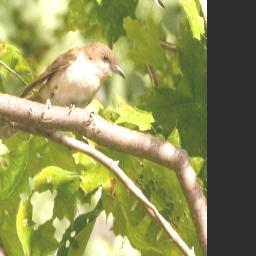Cuckoo: (0, 0, 132, 205)
